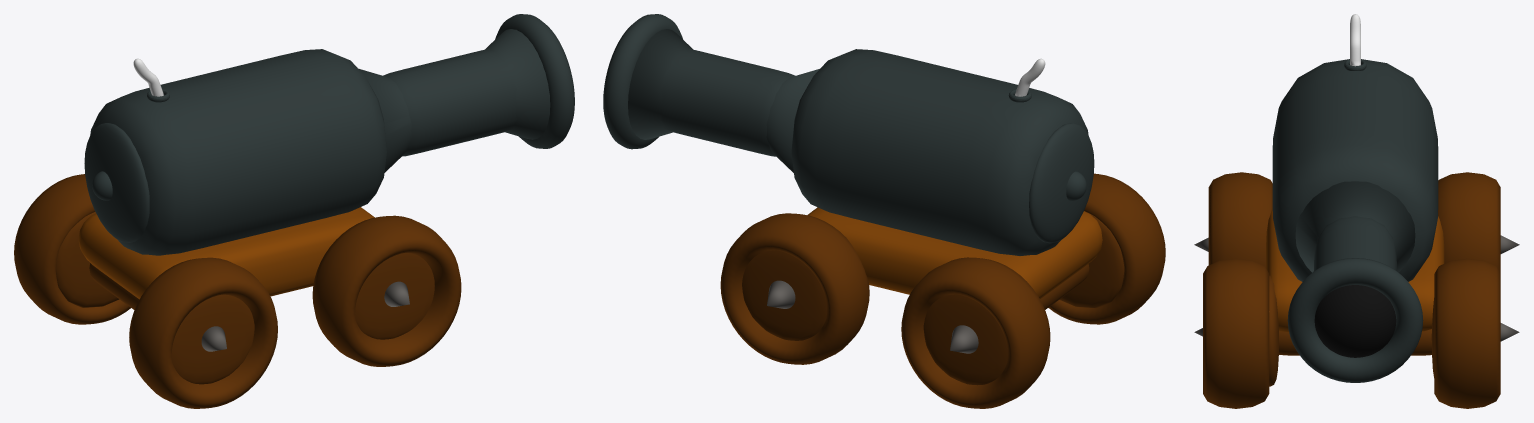
Rendered from Cañón.fbx.
3 views of the same model, side by side, from view 1: azimuth 30°, elevation 25°; view 2: azimuth 150°, elevation 25°; view 3: azimuth 270°, elevation 25° (orthographic). The views are drawn at different scales.
Parts seen in each view (by area): view 1: Cube.003, Torus.005, Torus.002, Cube.008, Cube.001, Torus.003, Sphere.002, Cube, Cube.007, Torus.001, Cone.001, Cube.002 (+5 smaller); view 2: Cube.003, Torus.003, Torus.004, Cube.008, Cube.001, Torus.002, Sphere.002, Cube.006, Cube.002, Torus.001, Cone.001, Cube (+4 smaller); view 3: Cube.003, Torus.004, Torus.005, Torus.001, Torus.002, Torus.003, Cone, Sphere.001, Cube.008, Cube.001, Cube.007, Cube.005 (+1 smaller).
Part boxes in pixels (x1,y1,x2,y2): Cube.003: (90, 49, 386, 255); Torus.005: (312, 215, 461, 366); Torus.002: (129, 257, 277, 408); Cube.008: (78, 207, 374, 299); Cube.001: (383, 48, 517, 156); Torus.003: (14, 174, 130, 324); Sphere.002: (84, 123, 149, 242); Cube: (171, 294, 254, 384); Cube.007: (355, 253, 434, 339); Torus.001: (495, 14, 574, 148); Cone.001: (485, 29, 550, 139); Cube.002: (55, 212, 119, 307); Cube.003: (791, 49, 1088, 255); Torus.003: (901, 257, 1050, 408); Torus.004: (720, 213, 869, 364); Cube.008: (807, 207, 1102, 298); Cube.001: (661, 49, 795, 156); Torus.002: (1048, 173, 1165, 324); Sphere.002: (1029, 123, 1094, 243); Cube.006: (742, 250, 826, 340); Cube.002: (923, 294, 1007, 385); Torus.001: (603, 14, 682, 149); Cone.001: (628, 29, 692, 139); Cube: (1059, 211, 1124, 308); Cube.003: (1272, 59, 1438, 281); Torus.004: (1434, 258, 1500, 408); Torus.005: (1203, 258, 1269, 408); Torus.001: (1287, 258, 1423, 382); Torus.002: (1208, 172, 1272, 267); Torus.003: (1438, 172, 1500, 272); Cone: (1295, 181, 1415, 272); Sphere.001: (1314, 285, 1396, 357); Cube.008: (1266, 207, 1444, 332); Cube.001: (1314, 216, 1396, 270); Cube.007: (1269, 275, 1278, 386); Cube.005: (1279, 329, 1431, 355).
Size of the model in its own units: 899 by 545 by 541.
